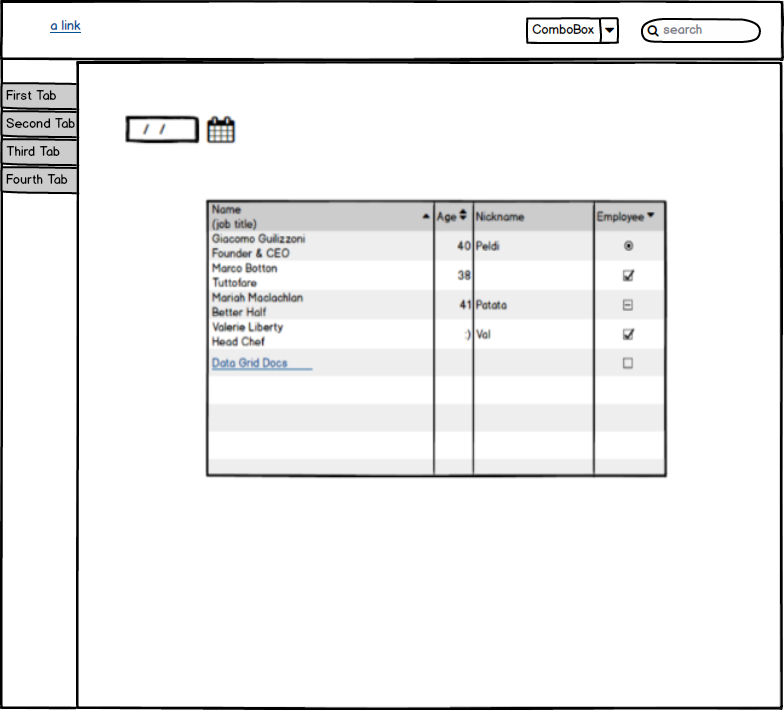date_picker: (116, 108, 240, 151)
navlink: (40, 15, 85, 40)
search: (637, 13, 766, 47)
select_box: (521, 13, 623, 47)
sidebar: (1, 74, 84, 211)
table: (201, 193, 675, 482)
